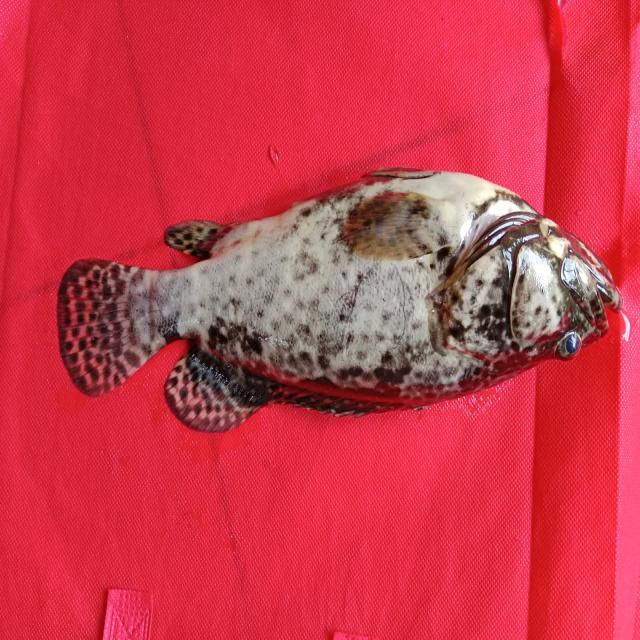ikan: (50, 148, 632, 447)
